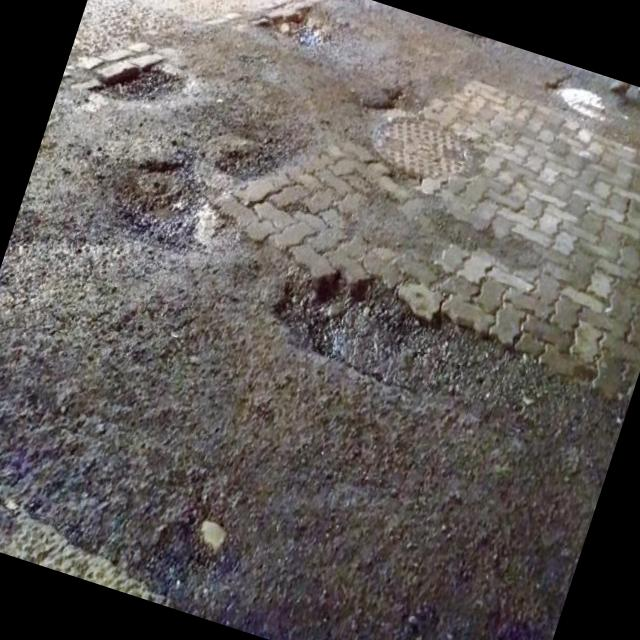Potholes: (244, 228, 561, 471), (71, 141, 248, 285), (339, 72, 482, 216), (69, 22, 192, 132), (530, 59, 634, 160), (244, 0, 337, 71)
